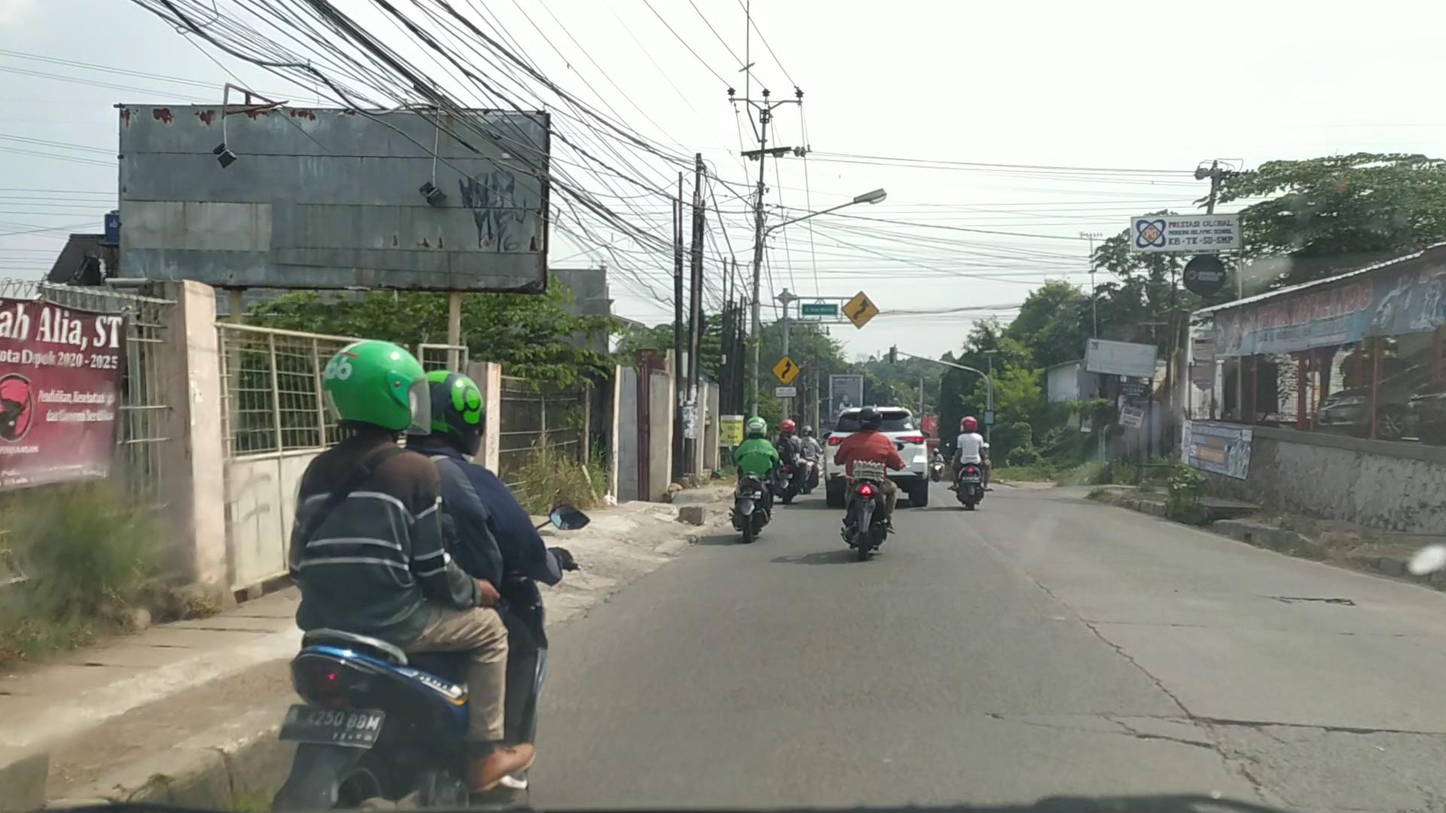pothole: (1269, 596, 1358, 608)
